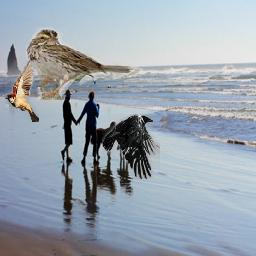Crow: (102, 115, 160, 180)
Sparrow: (27, 28, 140, 101), (5, 60, 39, 122)
